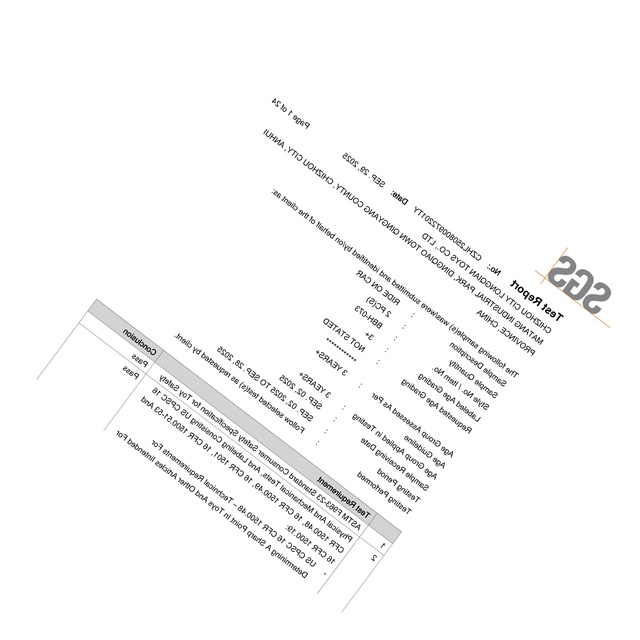sgs: (548, 255, 611, 315)
